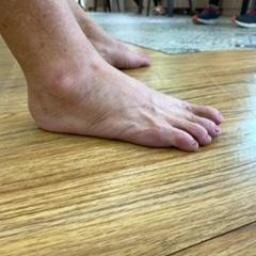Lateral View -Right Foot-: (4, 10, 241, 176)
